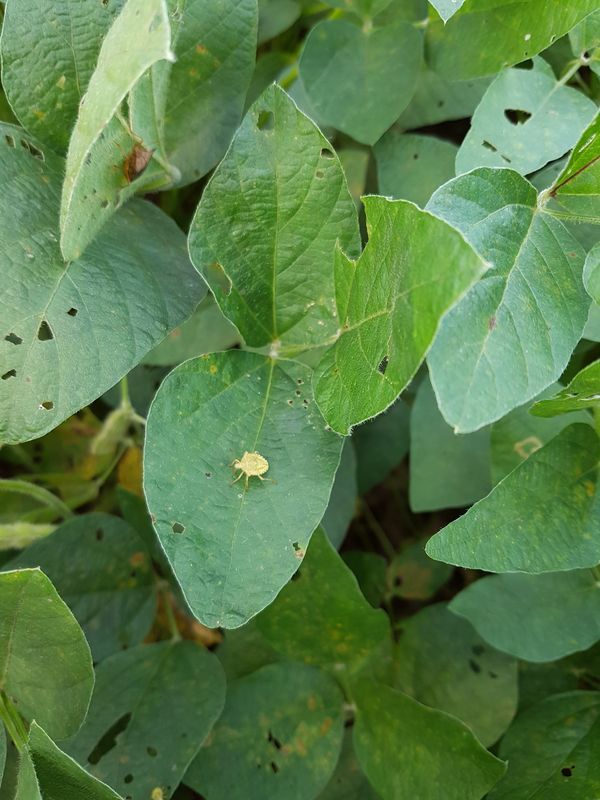Euschistus_heros_adulto: (102, 122, 168, 193)
Euschistus_heros_ninfa: (224, 445, 276, 494)
